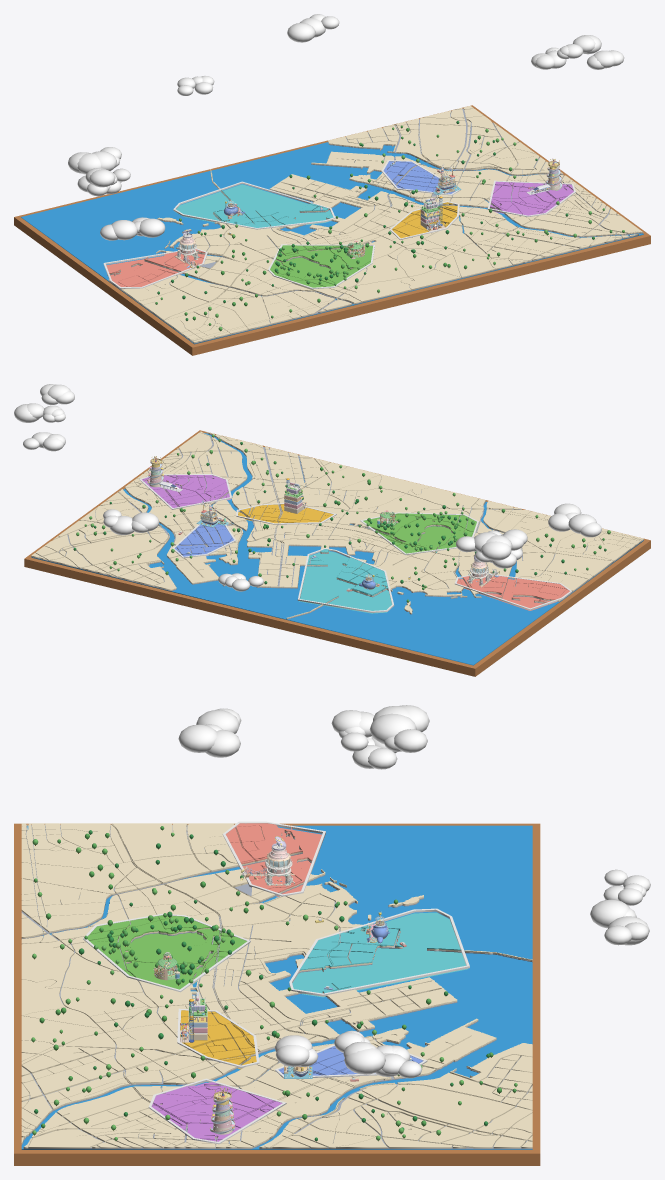
Rendered from city.glb.
3 views of the same model, one above another, from view 1: azimuth 30°, elevation 25°; view 2: azimuth 150°, elevation 25°; view 3: azimuth 270°, elevation 25° (orthographic). The views are drawn at different scales.
Parts seen in each view (by area): view 1: 区画_主要道路のみ_中心街案, 海・川_中心街案, 台座の板, 道路面_中心街案, 海色_博多湾, エリア_大濠公園, エリア_博多駅, エリア_ももち, エリア_博多湾, エリア_ベイサイド, エリア_天神, 枠_博多湾 (+2 smaller); view 2: 区画_主要道路のみ_中心街案, 海・川_中心街案, 台座の板, 道路面_中心街案, 海色_博多湾, エリア_大濠公園, エリア_博多駅, エリア_ももち, エリア_博多湾, エリア_ベイサイド, エリア_天神, 枠_博多湾 (+5 smaller); view 3: 区画_主要道路のみ_中心街案, 海・川_中心街案, 台座の板, 海色_博多湾, 道路面_中心街案, エリア_大濠公園, エリア_博多駅, エリア_博多湾, エリア_ももち, エリア_天神, 枠_博多湾, 海色_大濠公園 (+11 smaller).
Boxes of the visible parts, x1=… form: 区画_主要道路のみ_中心街案: x1=107, y1=106, x2=643, y2=342; 海・川_中心街案: x1=21, y1=142, x2=643, y2=344; 台座の板: x1=14, y1=105, x2=650, y2=355; 道路面_中心街案: x1=107, y1=108, x2=643, y2=343; 海色_博多湾: x1=174, y1=184, x2=331, y2=224; エリア_大濠公園: x1=270, y1=245, x2=372, y2=287; エリア_博多駅: x1=490, y1=181, x2=573, y2=215; エリア_ももち: x1=109, y1=249, x2=205, y2=286; エリア_博多湾: x1=213, y1=189, x2=333, y2=227; エリア_ベイサイド: x1=383, y1=161, x2=455, y2=193; エリア_天神: x1=392, y1=202, x2=457, y2=238; 枠_博多湾: x1=173, y1=181, x2=335, y2=229; 区画_主要道路のみ_中心街案: x1=31, y1=431, x2=643, y2=618; 海・川_中心街案: x1=31, y1=433, x2=643, y2=665; 台座の板: x1=24, y1=430, x2=650, y2=676; 道路面_中心街案: x1=31, y1=433, x2=643, y2=619; 海色_博多湾: x1=299, y1=551, x2=392, y2=613; エリア_大濠公園: x1=363, y1=513, x2=476, y2=553; エリア_博多駅: x1=142, y1=475, x2=228, y2=507; エリア_ももち: x1=457, y1=575, x2=569, y2=602; エリア_博多湾: x1=307, y1=549, x2=388, y2=603; エリア_ベイサイド: x1=175, y1=518, x2=233, y2=556; エリア_天神: x1=238, y1=504, x2=333, y2=523; 枠_博多湾: x1=297, y1=548, x2=394, y2=612; 区画_主要道路のみ_中心街案: x1=21, y1=823, x2=532, y2=1148; 海・川_中心街案: x1=21, y1=825, x2=532, y2=1149; 台座の板: x1=14, y1=823, x2=540, y2=1165; 海色_博多湾: x1=292, y1=912, x2=468, y2=997; 道路面_中心街案: x1=21, y1=825, x2=532, y2=1149; エリア_大濠公園: x1=87, y1=915, x2=246, y2=989; エリア_博多駅: x1=152, y1=1082, x2=282, y2=1141; エリア_博多湾: x1=293, y1=925, x2=461, y2=993; エリア_ももち: x1=226, y1=823, x2=312, y2=893; エリア_天神: x1=180, y1=1010, x2=256, y2=1064; 枠_博多湾: x1=289, y1=908, x2=469, y2=996; 海色_大濠公園: x1=126, y1=932, x2=212, y2=984.
Bounding box in the file's own units: 2.43 × 0.4696 × 1.66.
